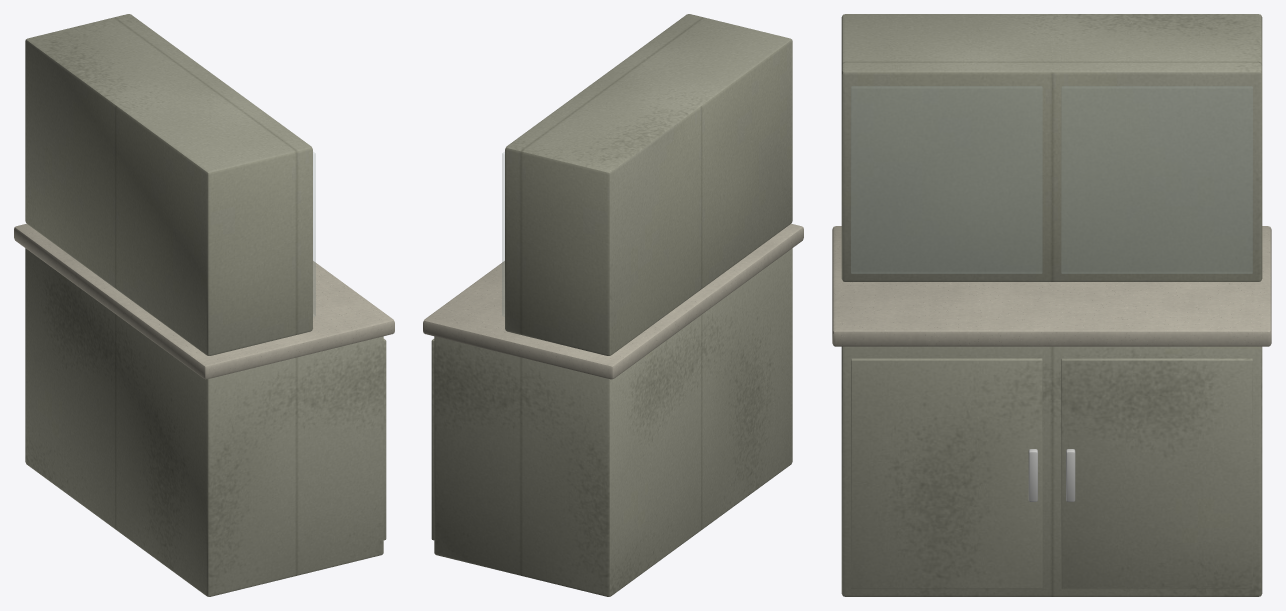
Rendered from outpost_cabinet_low.glb.
3 renders of one model, left to right at view 1: azimuth 30°, elevation 25°; view 2: azimuth 150°, elevation 25°; view 3: azimuth 270°, elevation 25°, orthographic. The views are drawn at different scales.
Parts seen in each view (by area): view 1: base, upper, worktop, door; view 2: base, upper, worktop, door.001; view 3: upper, door, door.001, upperglass, upperglass.001, worktop, base.
Part boxes in pixels (box(x1,y1,x2,y2)): base: box(25, 248, 383, 596); upper: box(25, 14, 312, 355); worktop: box(14, 223, 394, 379); door: box(383, 339, 386, 540); base: box(434, 248, 792, 596); upper: box(505, 14, 792, 355); worktop: box(423, 223, 803, 379); door.001: box(431, 339, 434, 540); upper: box(841, 14, 1262, 281); door: box(851, 358, 1042, 588); door.001: box(1061, 358, 1252, 588); upperglass: box(851, 86, 1042, 273); upperglass.001: box(1061, 86, 1252, 273); worktop: box(832, 226, 1271, 346); base: box(841, 346, 1262, 596).
Size of the model in its own units: 0.55 by 1.15 by 0.94.
Materials: 4 (2 with a texture image).
